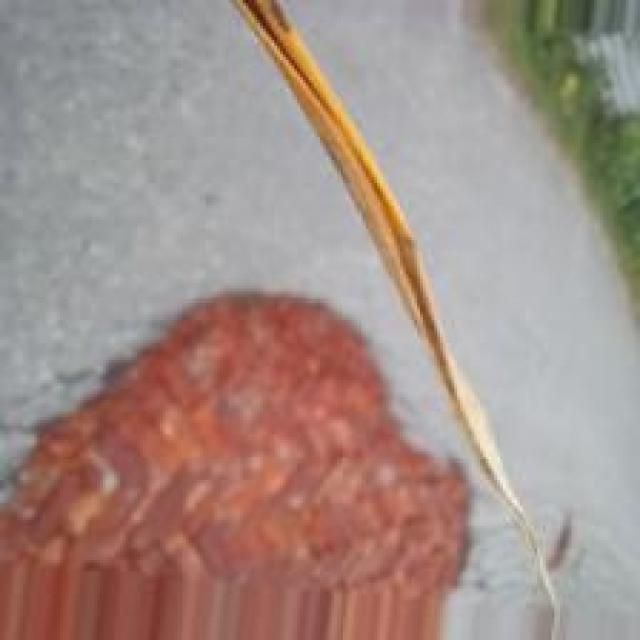Rice False Smut: (236, 0, 471, 399)
